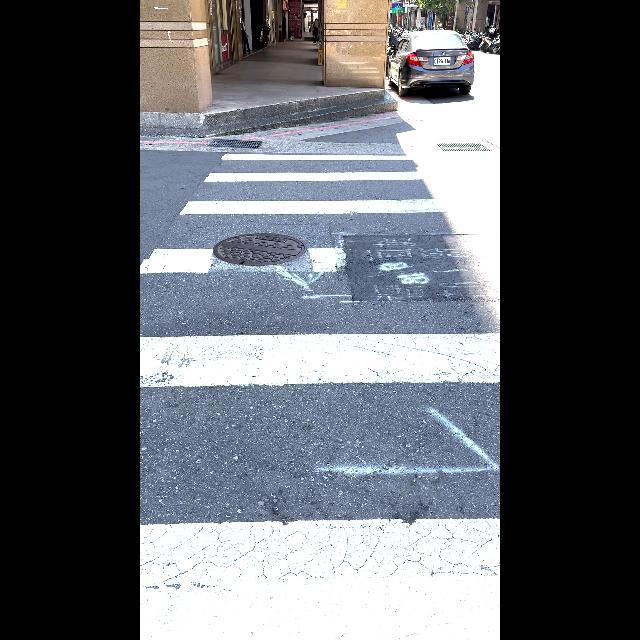sidewalk: (140, 148, 500, 640)
